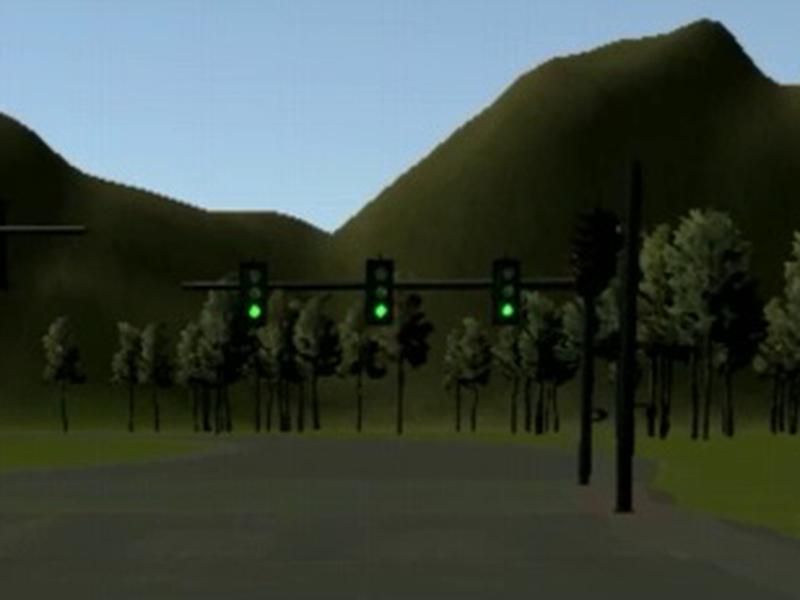Green: (365, 258, 395, 325), (491, 259, 521, 325), (239, 263, 267, 326)
